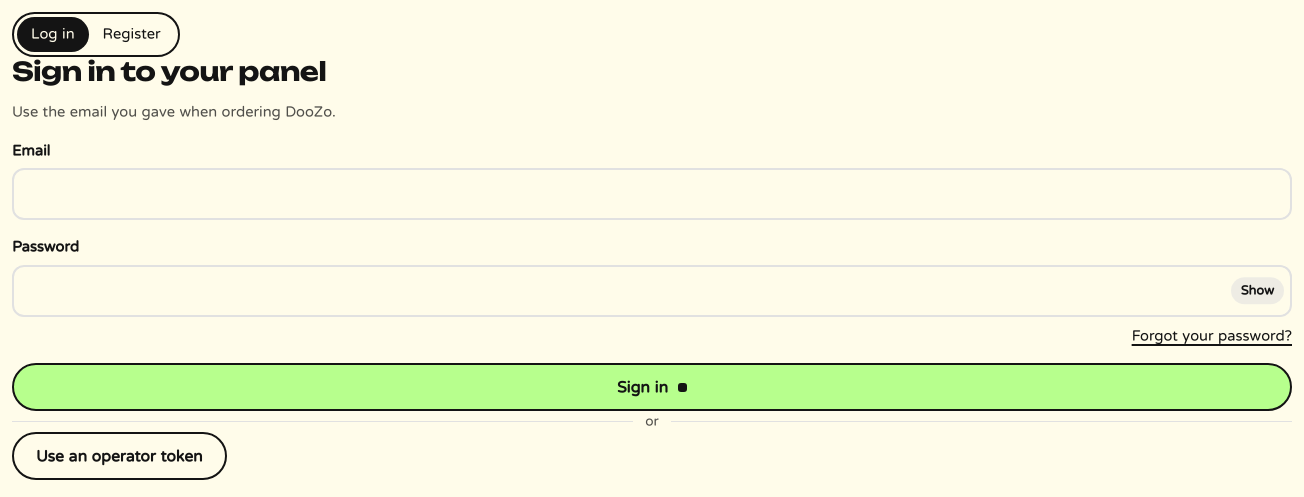
Scenario: AuthScreen › switches to the operator token form and updates the URL hash
Click the button "Use an operator token" at (119, 456), box [12,432,226,480]
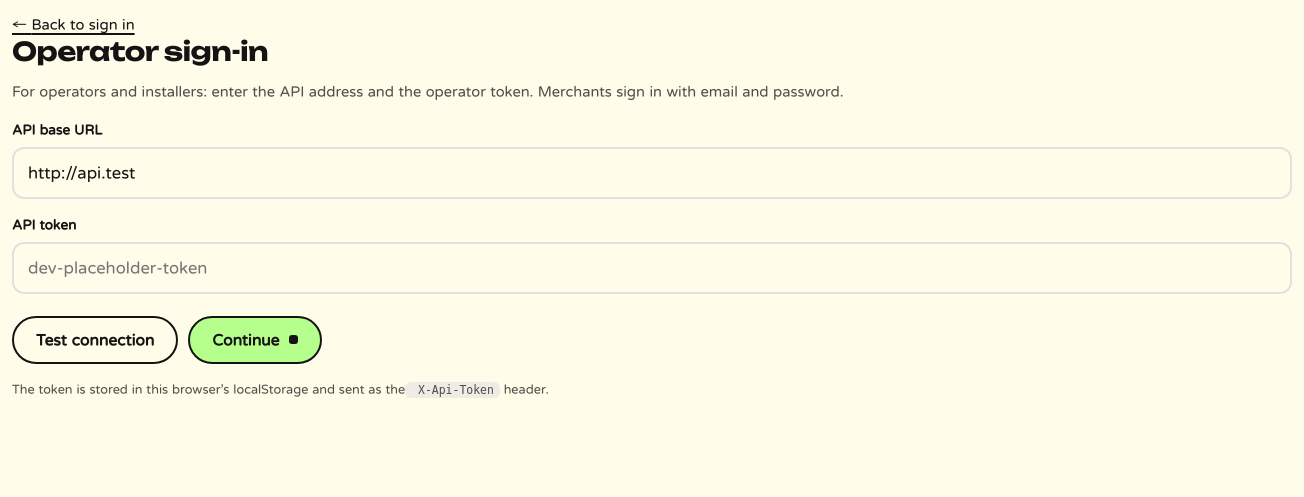
Check: the heading "Operator sign-in" is shown, box [12,34,268,66]
Check: the password field labelled "API token" is shown, box [12,242,1292,294]
